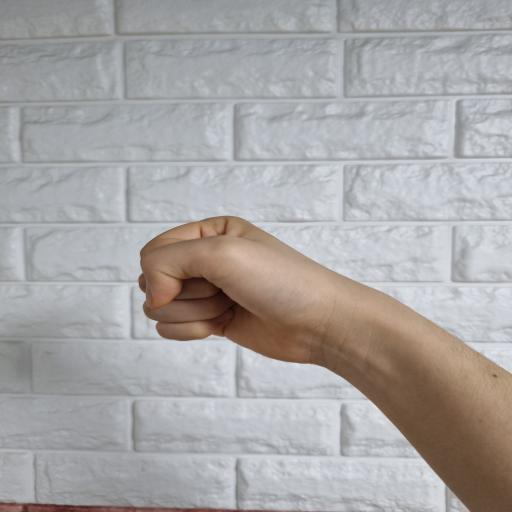Rock: (136, 215, 444, 378)
